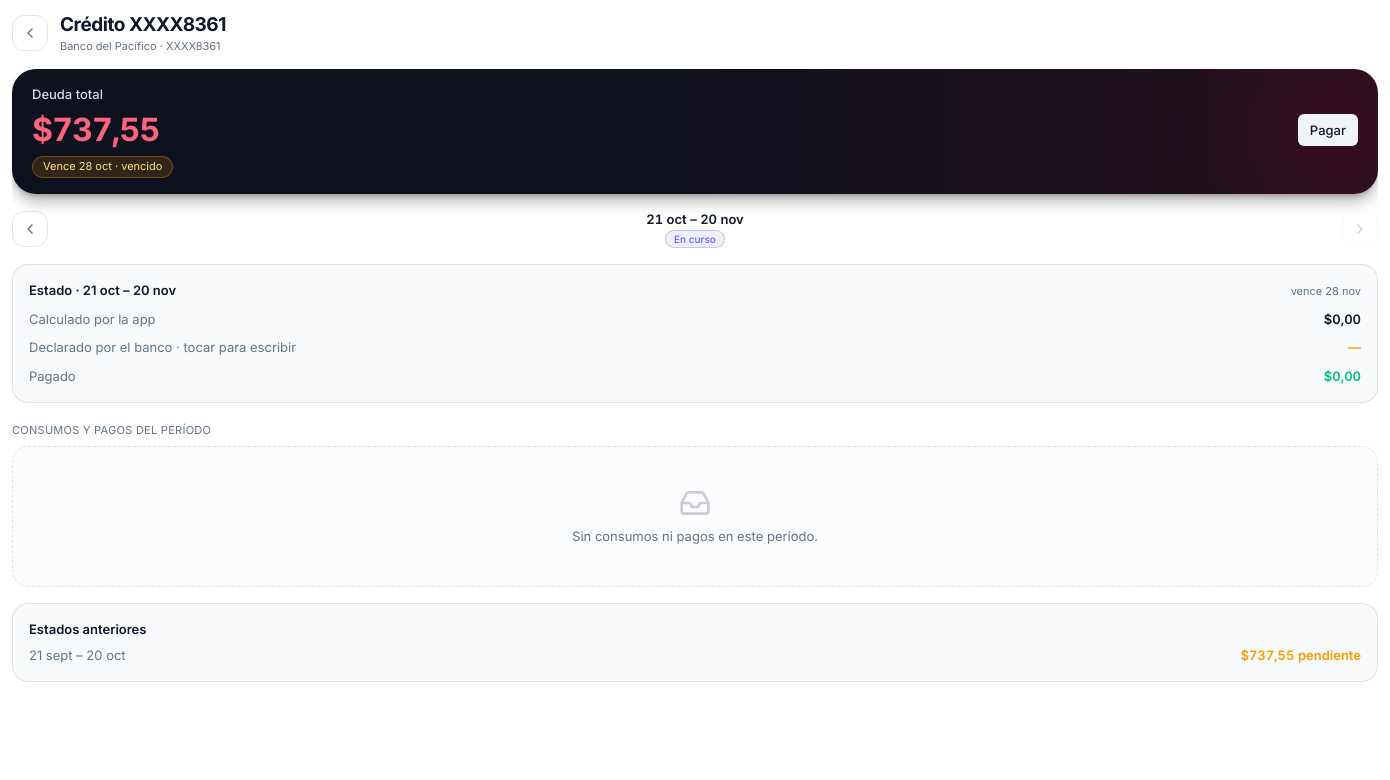
it: CardDetailClient — selector de período › un período sin estado de cuenta muestra sus movimientos y lo explica
The image size is (1390, 780).
Click the button named "Período anterior" at (30, 229), box [12,211,48,247]
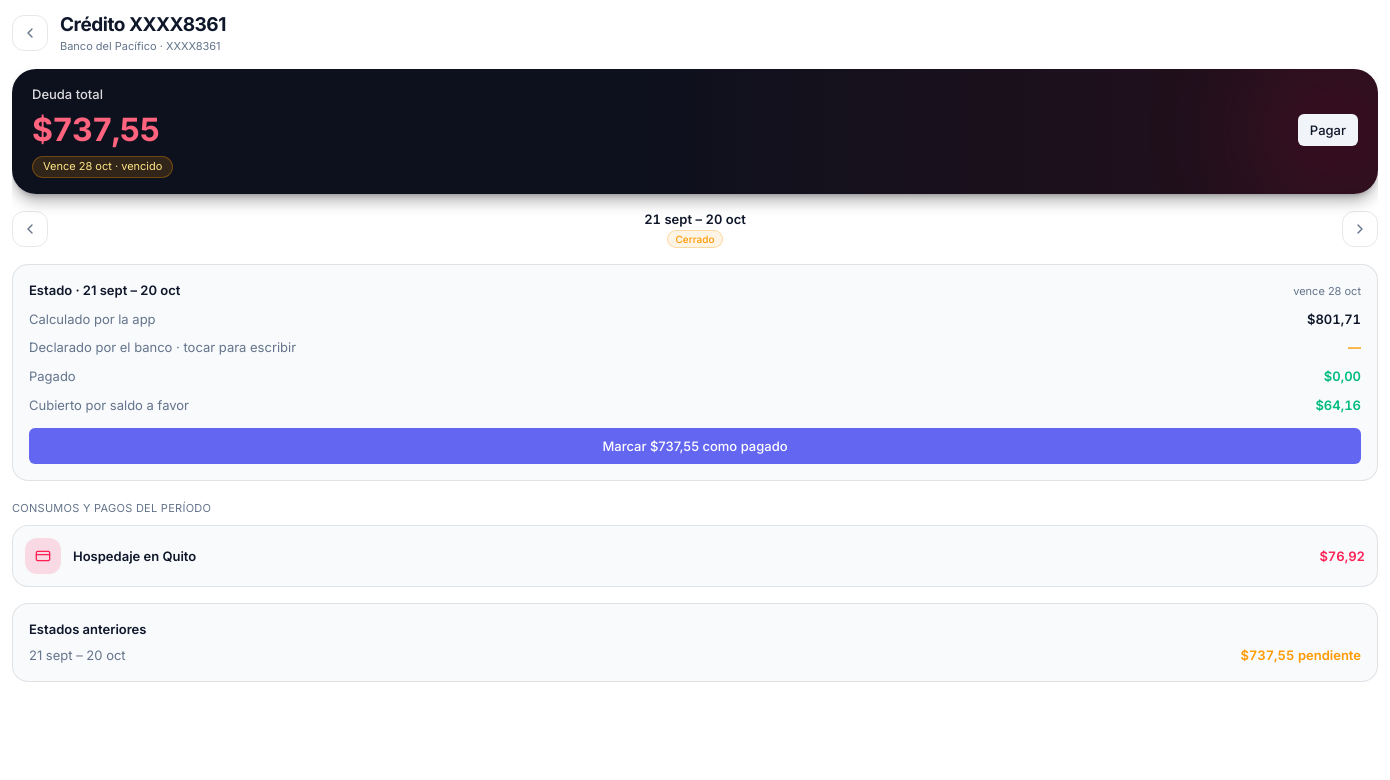
Click the button named "Período anterior" at (30, 229), box [12,211,48,247]
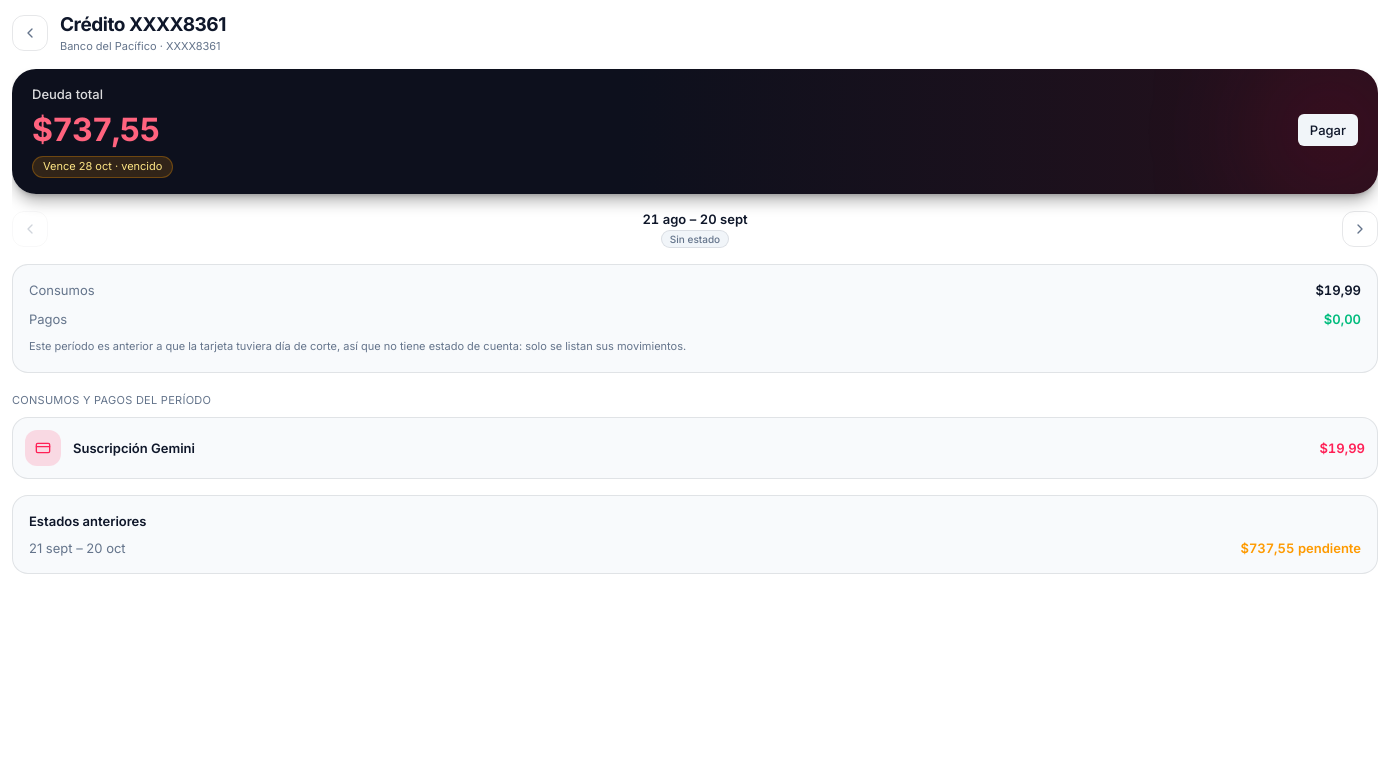
Result: the text "Sin estado" is shown at [661,230,729,248]
Result: the text "Suscripción Gemini" is shown at [73,440,195,456]
